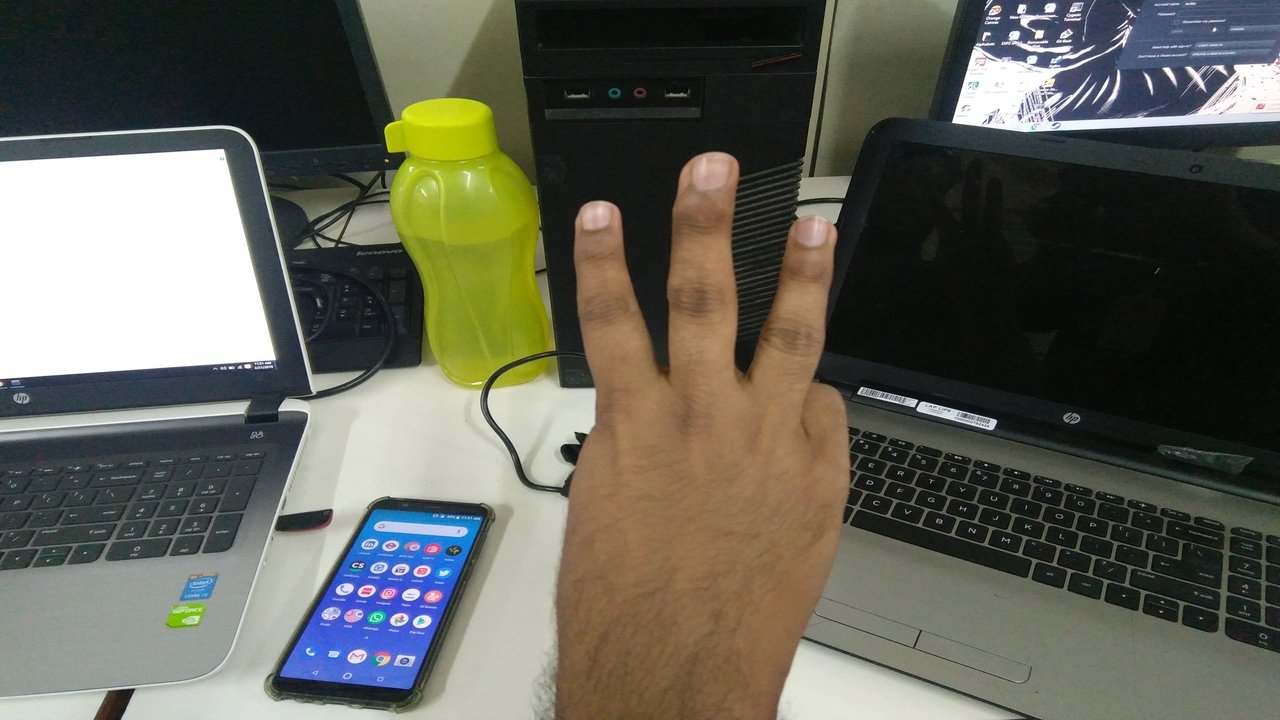fingertip: (668, 146, 750, 212), (780, 200, 844, 264), (564, 194, 630, 250)
